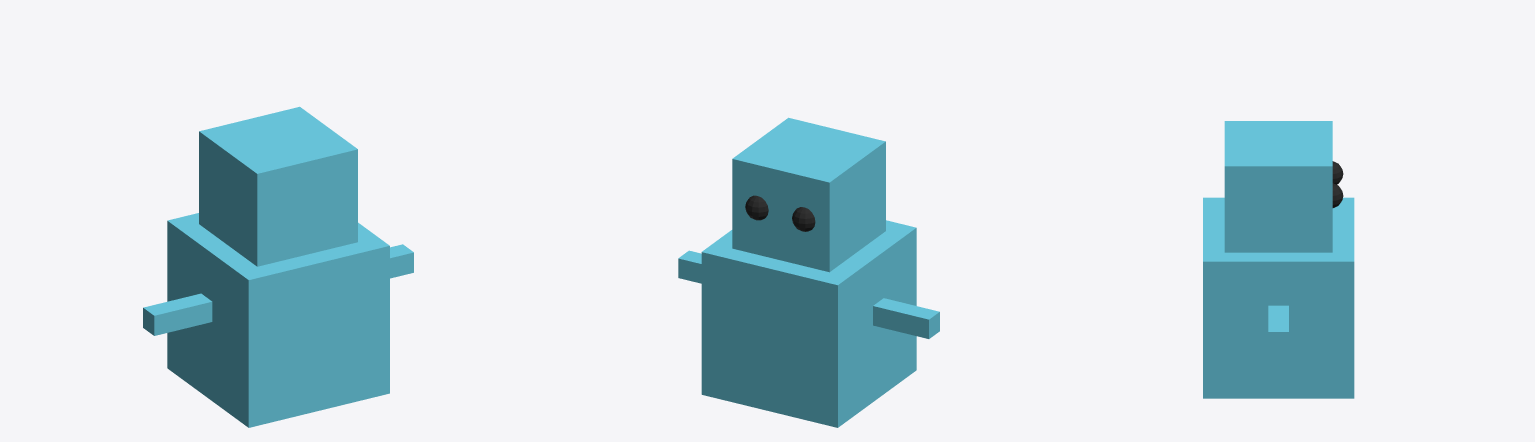
3 views of the same model, side by side, from view 1: azimuth 30°, elevation 25°; view 2: azimuth 150°, elevation 25°; view 3: azimuth 270°, elevation 25° (orthographic). The views are drawn at different scales.
Parts seen in each view (by area): view 1: AR_Body, AR_Head, AR_Arm_L, AR_Arm_R; view 2: AR_Body, AR_Head, AR_Arm_L, AR_Arm_R, AR_Eye_L, AR_Eye_R; view 3: AR_Body, AR_Head, AR_Arm_R.
Part boxes in pixels (<box>): AR_Body: <box>167,213,389,427</box>; AR_Head: <box>199,106,357,266</box>; AR_Arm_L: <box>143,293,212,335</box>; AR_Arm_R: <box>390,244,413,278</box>; AR_Body: <box>701,220,916,427</box>; AR_Head: <box>732,117,885,272</box>; AR_Arm_L: <box>873,298,939,338</box>; AR_Arm_R: <box>678,250,701,283</box>; AR_Eye_L: <box>745,195,768,220</box>; AR_Eye_R: <box>792,207,815,231</box>; AR_Body: <box>1203,197,1354,398</box>; AR_Head: <box>1224,121,1332,252</box>; AR_Arm_R: <box>1268,305,1288,350</box>.
Size of the model in its own units: 1.02 by 0.7272 by 1.12.
